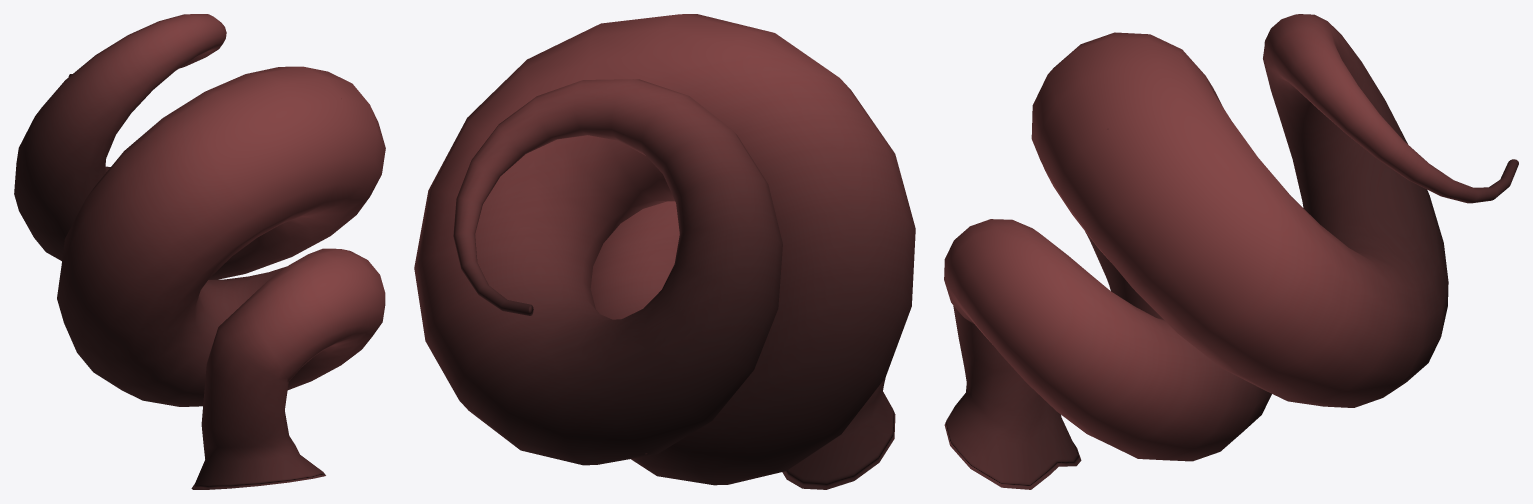
The model's file is spiral.glb.
3 renders of one model, left to right at view 1: azimuth 30°, elevation 25°; view 2: azimuth 150°, elevation 25°; view 3: azimuth 270°, elevation 25°, orthographic. The views are drawn at different scales.
Parts seen in each view (by area): view 1: t_spiral1; view 2: t_spiral1; view 3: t_spiral1.
Boxes of the visible parts, left/top/right/bottom form: t_spiral1: left=14, top=14, right=385, bottom=489; t_spiral1: left=414, top=14, right=915, bottom=489; t_spiral1: left=944, top=14, right=1518, bottom=489.
Bounding box in the file's own units: 0.0971 × 0.1062 × 0.1211.
1 material, 1 textured.
